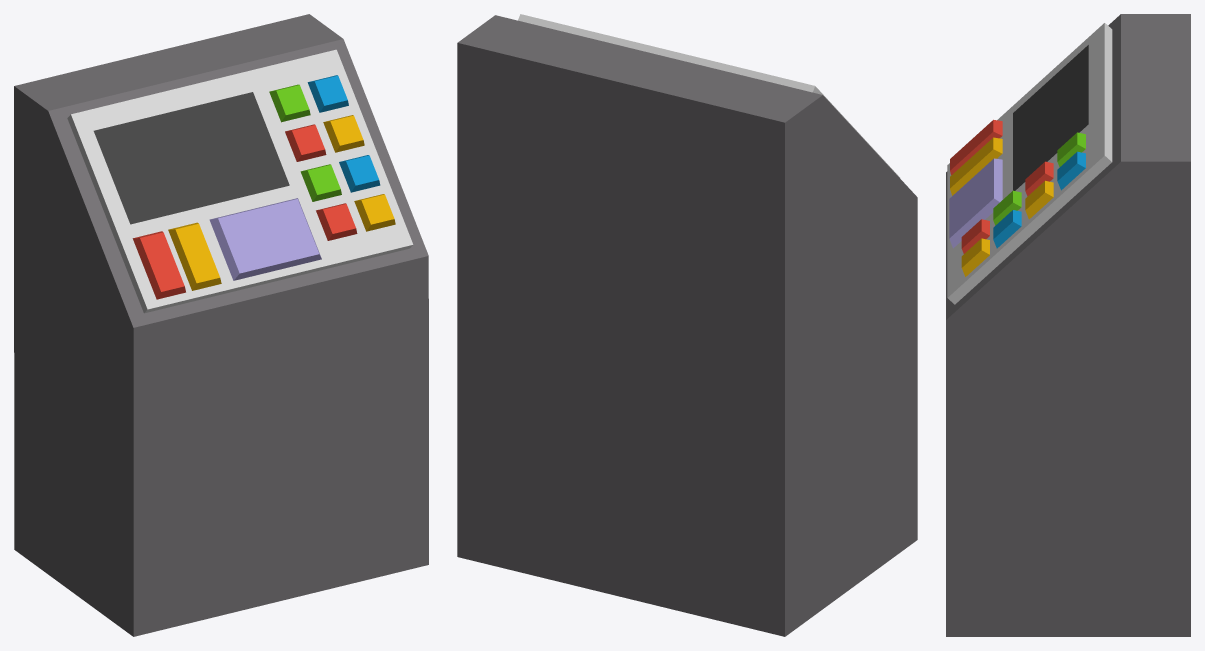
File: scifi_console.fbx
3 renders of one model, left to right at view 1: azimuth 30°, elevation 25°; view 2: azimuth 150°, elevation 25°; view 3: azimuth 270°, elevation 25°, orthographic. The views are drawn at different scales.
Parts seen in each view (by area): view 1: Button10; view 2: Button10; view 3: Button10.
Boxes of the visible parts, box(x1,y1,x2,y2) form: Button10: box(14, 14, 428, 636); Button10: box(457, 14, 917, 636); Button10: box(946, 14, 1190, 636).
Bounding box in the file's own units: 1 × 1.5 × 0.7.
